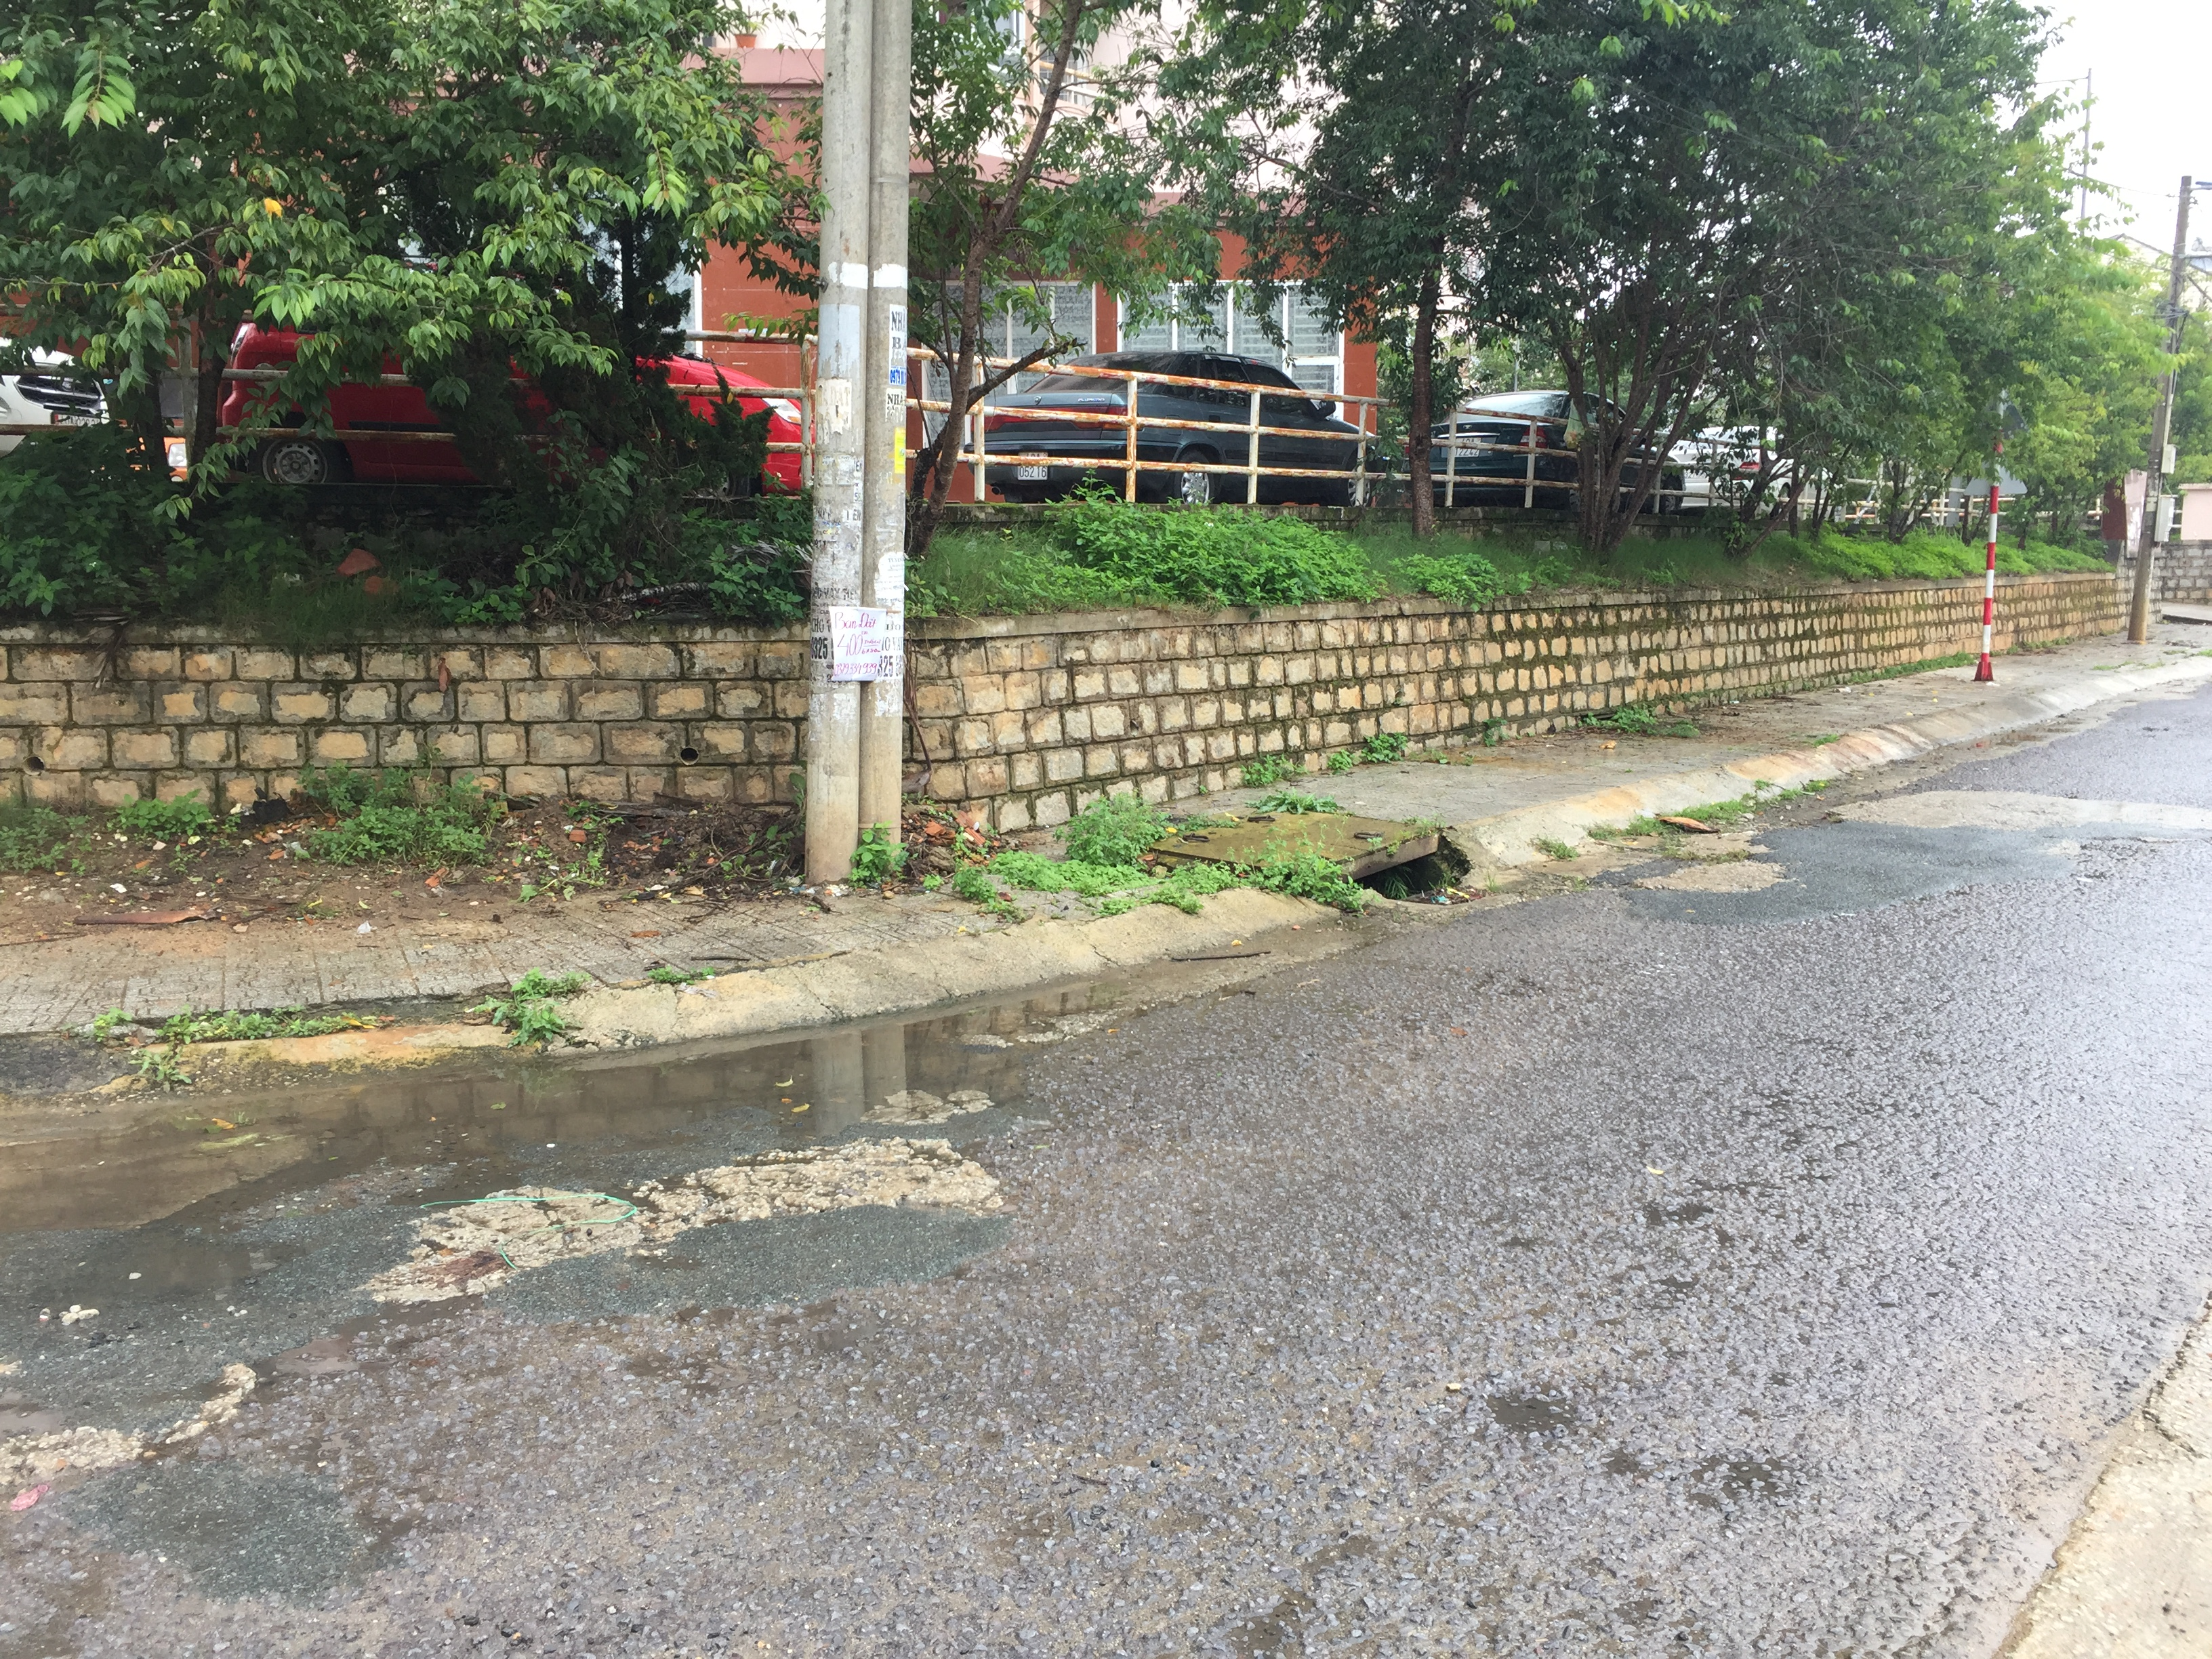hole: (42, 1222, 298, 1312), (326, 1290, 482, 1354), (2069, 833, 2168, 852), (1791, 812, 1843, 828)
